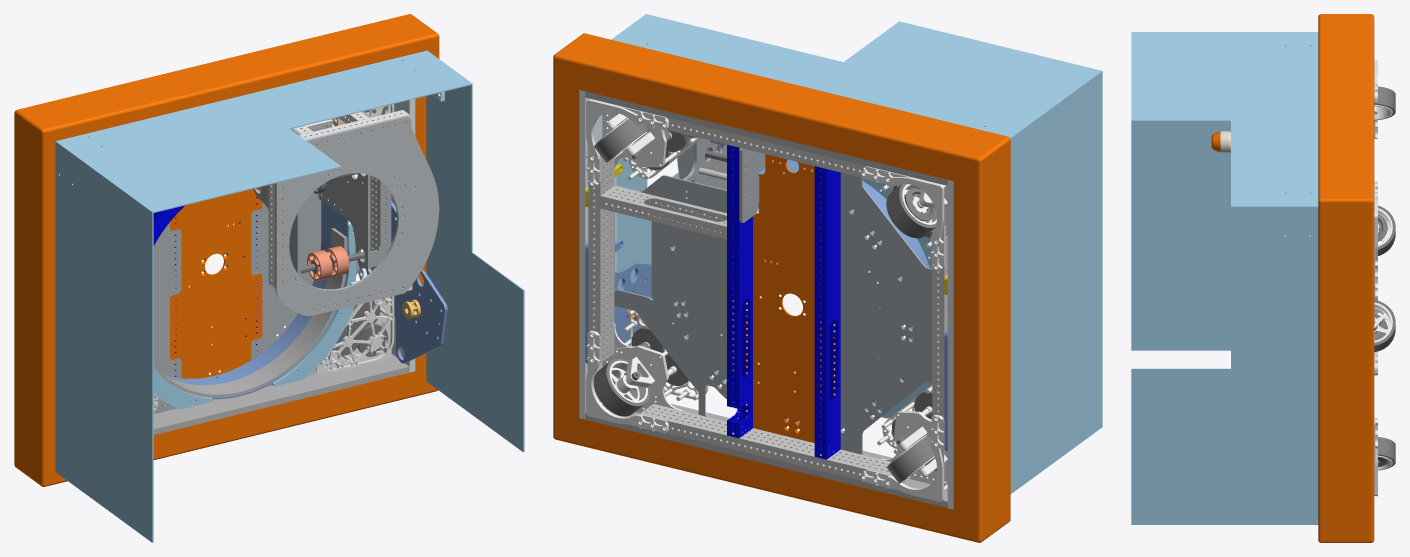
3 renders of one model, left to right at view 1: azimuth 30°, elevation 25°; view 2: azimuth 150°, elevation 25°; view 3: azimuth 270°, elevation 25°, orthographic. The views are drawn at different scales.
Visible parts, largest first — view 1: occurrence of Bump_Noodles, occurrence of Part 17, occurrence of DA_BOX, occurrence of Part 18, occurrence of Turret_Bass_Plate, occurrence of 1/3_SDXP_B, occurrence of 1/3_SDXP_A, occurrence of Bump_FrameL, occurrence of Wall_Foam, occurrence of 1/3_SDXP_C, occurrence of Part 3, occurrence of Spindex_Wall (+10 smaller); view 2: occurrence of Bump_Noodles, occurrence of Part 17, occurrence of DA_BOX, occurrence of 1/3_SDXP_C, occurrence of 1/3_SDXP_B, occurrence of 1/3_SDXP_A, occurrence of MK4i Master Part V2_Default Falcon 500 Config (×8), occurrence of C_Left_Tube 2"x1"x23", occurrence of CRight_Tube 2"x1"x23", occurrence of Bump_FrameL (×2), occurrence of Front_Tube 2"x1"x21.5", occurrence of Bump_FrameW (×2) (+12 smaller); view 3: occurrence of Part 18, occurrence of Bump_Noodles, occurrence of DA_BOX, occurrence of Part 17, occurrence of Tread, Black Nitrile 4in X 1.5in (×3), occurrence of Wheel, SDS, Nitrile Tread, 4in X 1.5in, Bearin, occurrence of MK4i Master Part V2_Default Falcon 500 Config, occurrence of Robot Signal Light (RSL) (Allen Bradley).
Part boxes in pixels (x1,y1,x2,y2): occurrence of Bump_Noodles: (14,14,439,486); occurrence of Part 17: (55,141,153,542); occurrence of DA_BOX: (57,50,471,212); occurrence of Part 18: (426,50,524,452); occurrence of Turret_Bass_Plate: (275,115,439,315); occurrence of 1/3_SDXP_B: (170,189,262,378); occurrence of 1/3_SDXP_A: (251,180,391,386); occurrence of Bump_FrameL: (153,354,409,434); occurrence of Wall_Foam: (153,228,347,397); occurrence of 1/3_SDXP_C: (153,222,181,413); occurrence of Part 3: (391,201,447,363); occurrence of Spindex_Wall: (164,201,348,399); occurrence of Bump_Noodles: (553,33,1010,542); occurrence of Part 17: (1010,70,1102,493); occurrence of DA_BOX: (612,14,1100,137); occurrence of 1/3_SDXP_C: (833,165,939,460); occurrence of 1/3_SDXP_B: (746,148,835,443); occurrence of 1/3_SDXP_A: (607,175,752,435); occurrence of MK4i Master Part V2_Default Falcon 500 Config (×8): (586,99,947,501); occurrence of C_Left_Tube 2"x1"x23": (814,161,840,459); occurrence of CRight_Tube 2"x1"x23": (727,140,752,438); occurrence of Bump_FrameL (×2): (585,91,947,507); occurrence of Front_Tube 2"x1"x21.5": (640,404,892,480); occurrence of Bump_FrameW (×2): (579,90,953,509); occurrence of Part 18: (1131,206,1318,524); occurrence of Bump_Noodles: (1318,14,1374,542); occurrence of DA_BOX: (1131,32,1318,206); occurrence of Part 17: (1131,32,1318,350); occurrence of Tread, Black Nitrile 4in X 1.5in (×3): (1374,86,1395,470); occurrence of Wheel, SDS, Nitrile Tread, 4in X 1.5in, Bearin: (1374,302,1392,342); occurrence of MK4i Master Part V2_Default Falcon 500 Config: (1374,181,1377,288); occurrence of Robot Signal Light (RSL) (Allen Bradley): (1211,131,1230,152).
Size of the model in its own units: 0.9017 by 0.7747 by 0.539.
